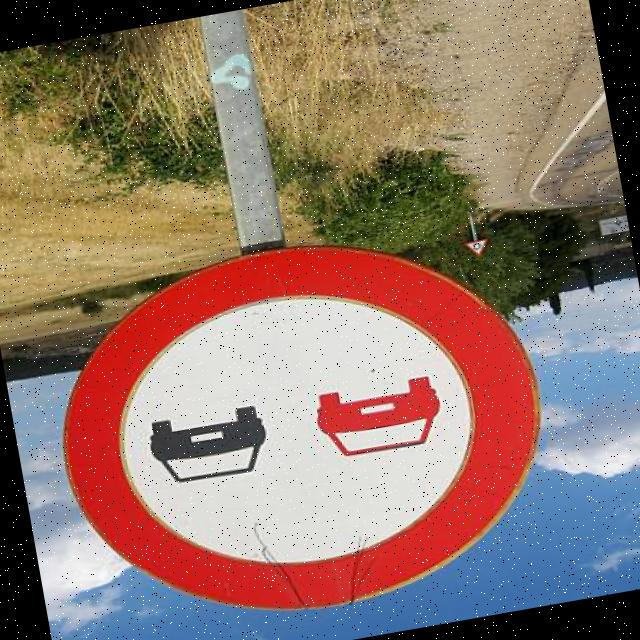no_passing: (24, 193, 575, 640)
